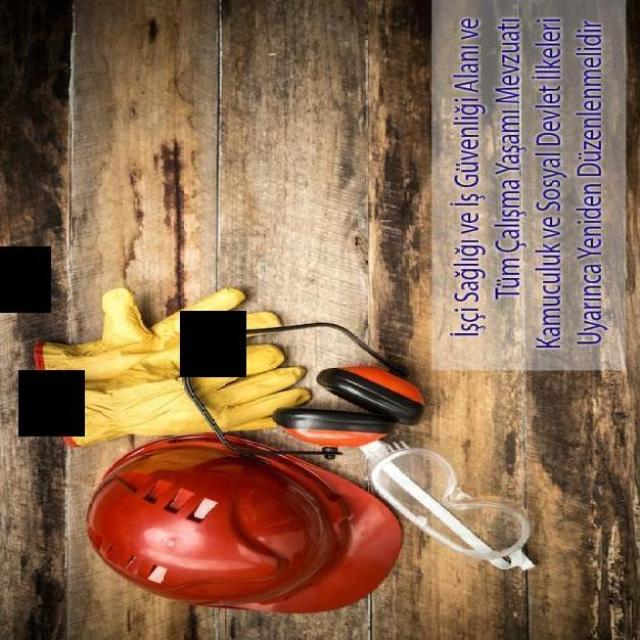red helmet: (69, 417, 413, 625)
